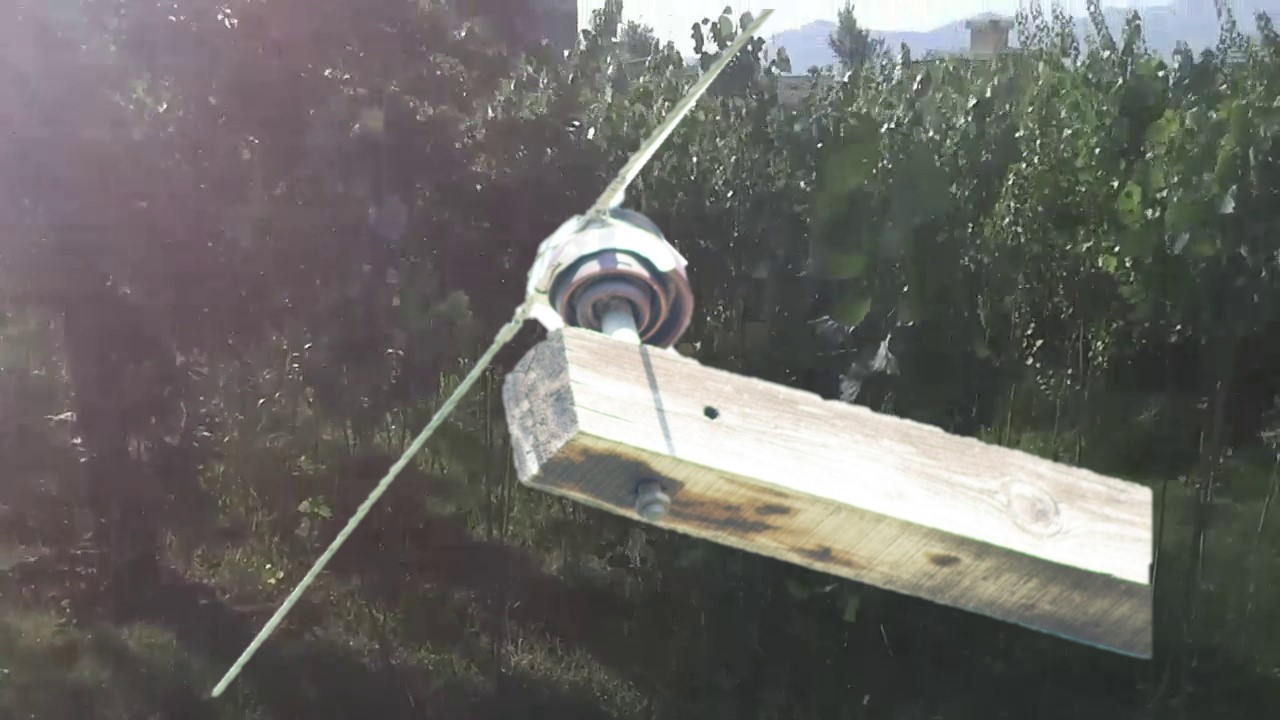defect_pin: (516, 200, 705, 350)
